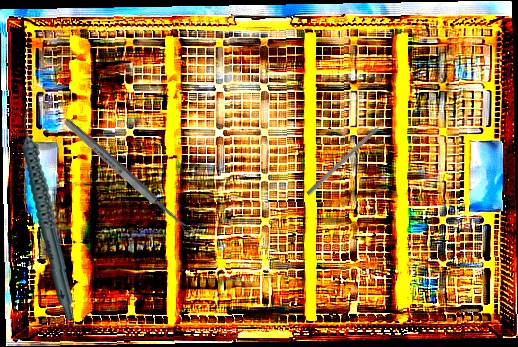Handpiece: (17, 105, 78, 319)
Pusher: (305, 113, 395, 197)
Surgical Spoon: (61, 116, 198, 240)
